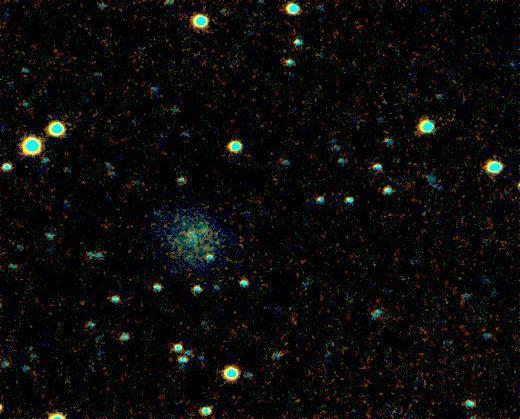star: (173, 225, 203, 255)
